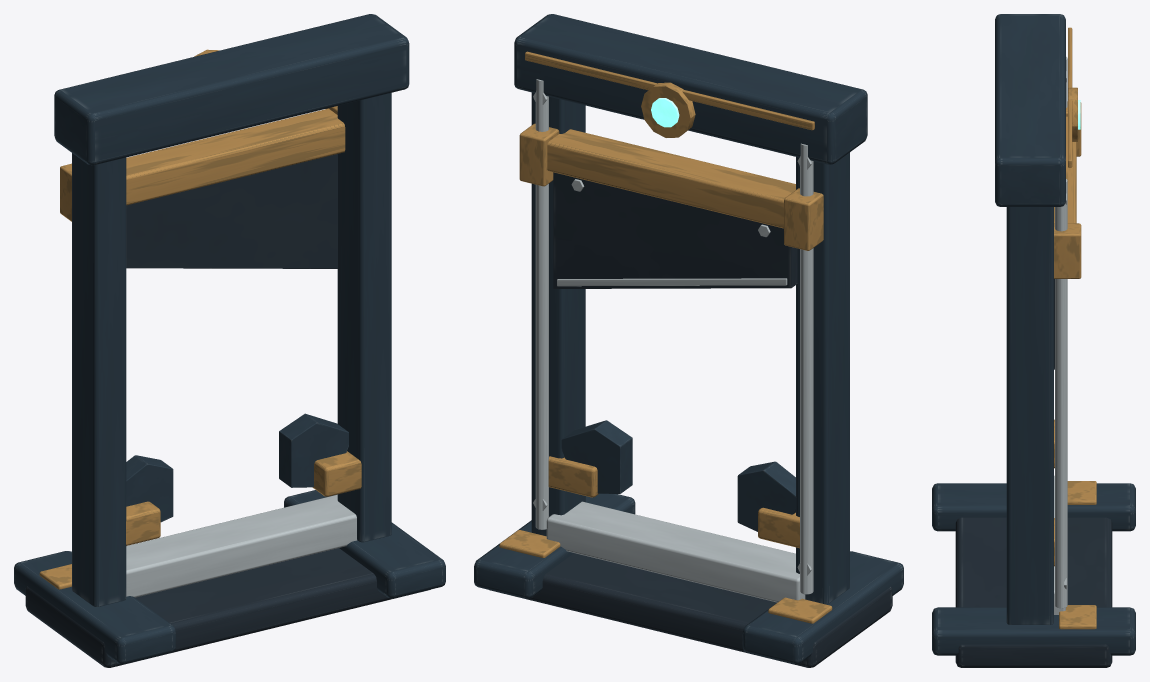
The model's file is guillotine_lock.glb.
3 views of the same model, side by side, from view 1: azimuth 30°, elevation 25°; view 2: azimuth 150°, elevation 25°; view 3: azimuth 270°, elevation 25° (orthographic). The views are drawn at different scales.
Visible parts, largest first — view 1: guillotine_lock__crown, guillotine_lock__column_neg1, guillotine_lock__column_1, guillotine_lock__falling_blade, guillotine_lock__ground_foundation, guillotine_lock__anvil, guillotine_lock__carriage, guillotine_lock__foot_neg1, guillotine_lock__foot_1, guillotine_lock__clamp_jaw_1, guillotine_lock__clamp_jaw_neg1, guillotine_lock__clamp_slide_1 (+2 smaller); view 2: guillotine_lock__crown, guillotine_lock__falling_blade, guillotine_lock__column_neg1, guillotine_lock__ground_foundation, guillotine_lock__anvil, guillotine_lock__carriage, guillotine_lock__column_1, guillotine_lock__foot_neg1, guillotine_lock__guide_neg1, guillotine_lock__guide_1, guillotine_lock__foot_1, guillotine_lock__clamp_jaw_1 (+11 smaller); view 3: guillotine_lock__column_1, guillotine_lock__crown, guillotine_lock__ground_foundation, guillotine_lock__foot_1, guillotine_lock__foot_neg1, guillotine_lock__guide_1, guillotine_lock__runner_1, guillotine_lock__foot_trim_1, guillotine_lock__carriage, guillotine_lock__foot_trim_neg1, guillotine_lock__crown_trim, guillotine_lock__clock_seal.
Boxes of the visible parts, box(x1,y1,x2,y2) form: guillotine_lock__crown: box(54, 14, 409, 165); guillotine_lock__column_neg1: box(72, 153, 126, 606); guillotine_lock__column_1: box(337, 93, 391, 542); guillotine_lock__falling_blade: box(126, 154, 337, 268); guillotine_lock__ground_foundation: box(25, 548, 430, 667); guillotine_lock__anvil: box(126, 494, 356, 597); guillotine_lock__carriage: box(126, 108, 345, 205); guillotine_lock__foot_neg1: box(14, 551, 175, 664); guillotine_lock__foot_1: box(284, 490, 445, 598); guillotine_lock__clamp_jaw_1: box(279, 413, 348, 487); guillotine_lock__clamp_jaw_neg1: box(126, 455, 173, 522); guillotine_lock__clamp_slide_1: box(312, 451, 361, 496); guillotine_lock__crown: box(514, 14, 867, 164); guillotine_lock__falling_blade: box(553, 172, 797, 288); guillotine_lock__column_neg1: box(796, 152, 849, 604); guillotine_lock__ground_foundation: box(489, 553, 892, 667); guillotine_lock__anvil: box(546, 501, 805, 602); guillotine_lock__carriage: box(547, 129, 795, 228); guillotine_lock__column_1: box(531, 92, 585, 536); guillotine_lock__foot_neg1: box(742, 551, 903, 664); guillotine_lock__guide_neg1: box(800, 143, 813, 594); guillotine_lock__guide_1: box(535, 79, 548, 529); guillotine_lock__foot_1: box(474, 493, 635, 598); guillotine_lock__clamp_jaw_1: box(561, 420, 632, 493); guillotine_lock__column_1: box(1006, 207, 1053, 624); guillotine_lock__crown: box(995, 14, 1065, 206); guillotine_lock__ground_foundation: box(955, 517, 1112, 667); guillotine_lock__foot_1: box(932, 607, 1135, 655); guillotine_lock__foot_neg1: box(932, 483, 1135, 531); guillotine_lock__guide_1: box(1055, 179, 1067, 608); guillotine_lock__runner_1: box(1054, 223, 1081, 278); guillotine_lock__foot_trim_1: box(1059, 605, 1096, 629); guillotine_lock__carriage: box(1054, 116, 1076, 223); guillotine_lock__foot_trim_neg1: box(1067, 481, 1096, 504); guillotine_lock__crown_trim: box(1068, 27, 1072, 167); guillotine_lock__clock_seal: box(1068, 87, 1077, 141).
Size of the model in its own units: 1.52 by 2.37 by 0.86.
Materials: 2 (2 with a texture image).
